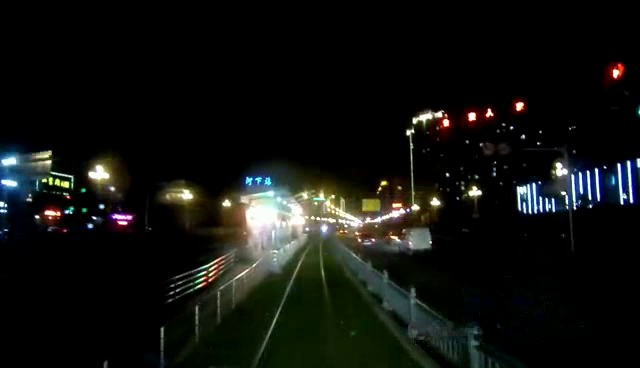car: (396, 227, 441, 260)
